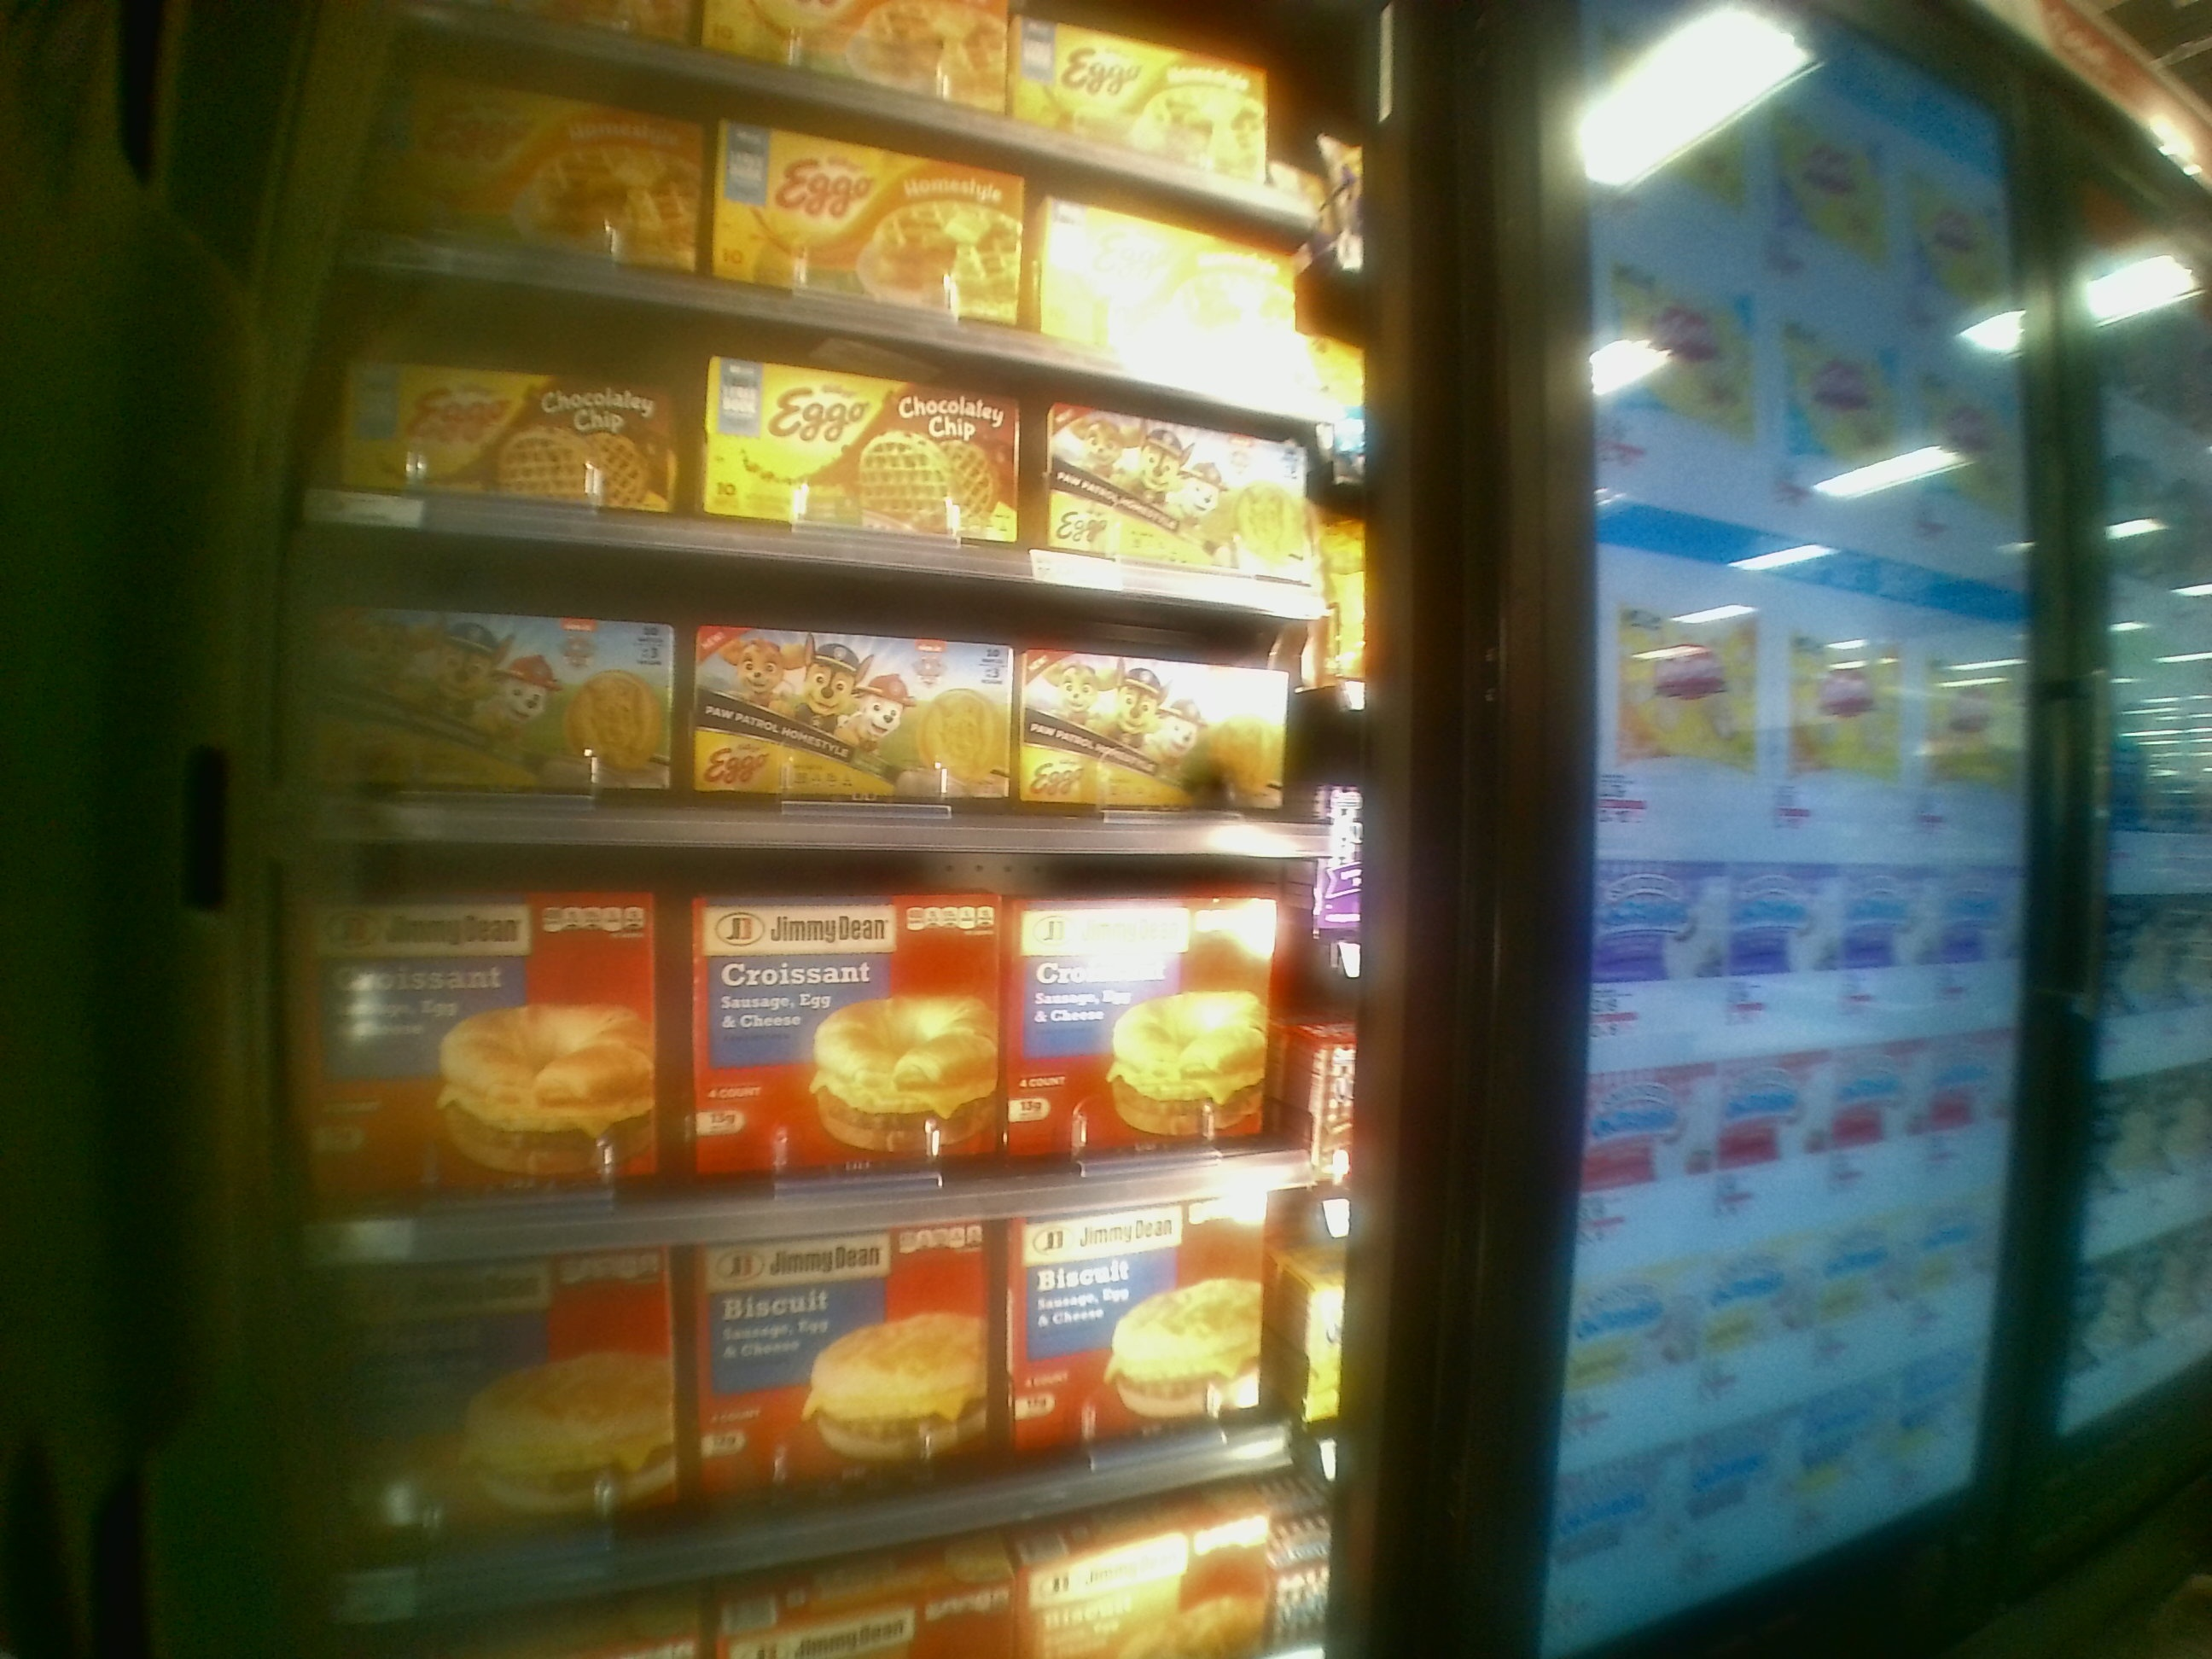shelf: (291, 842, 1332, 1258), (289, 516, 1345, 854)
